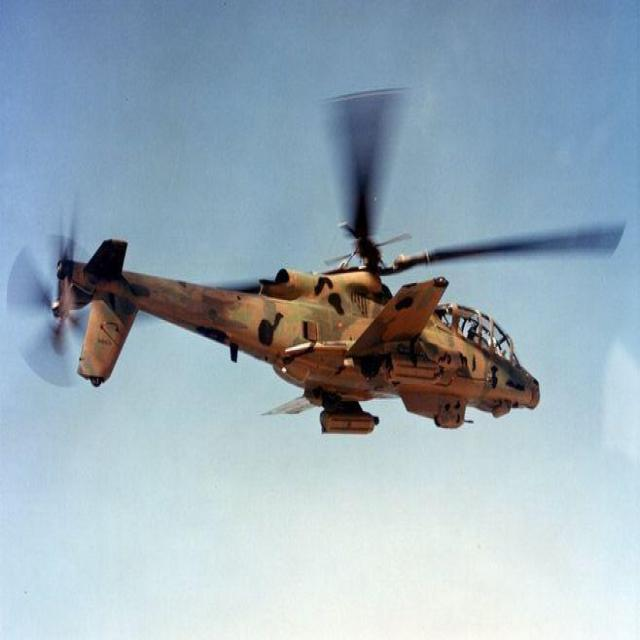MIL_HELO: (8, 75, 640, 441)
